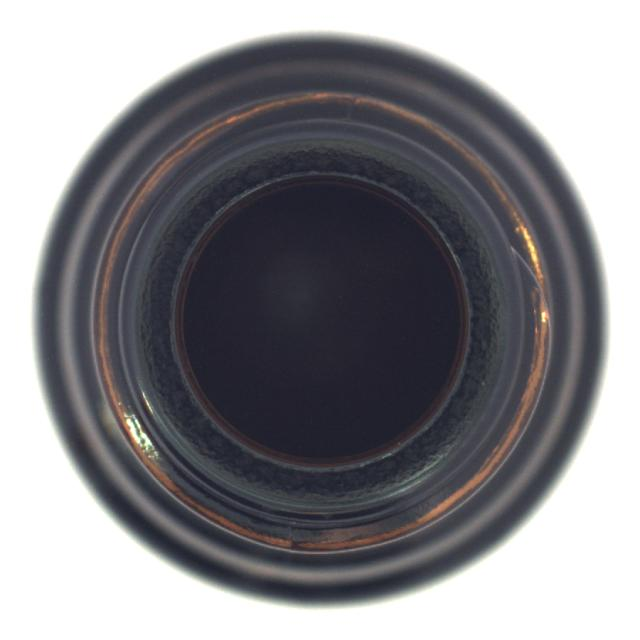bottle-good: (32, 33, 598, 606)
